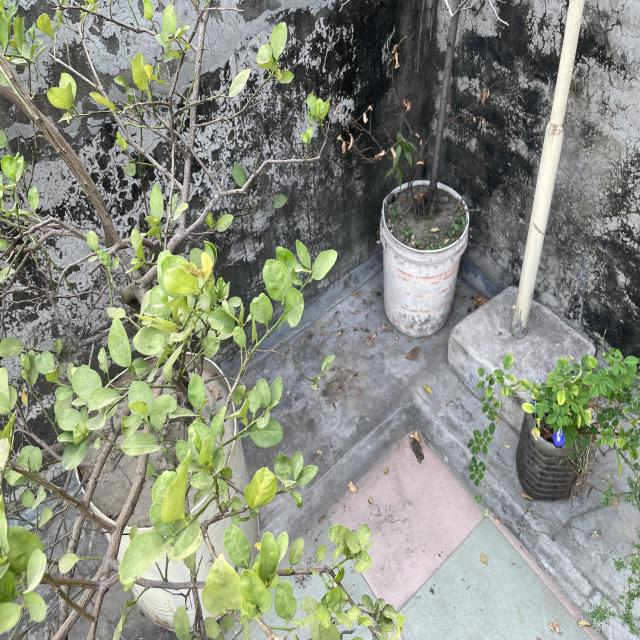Breeding Place: (383, 182, 470, 339), (519, 390, 589, 506)
